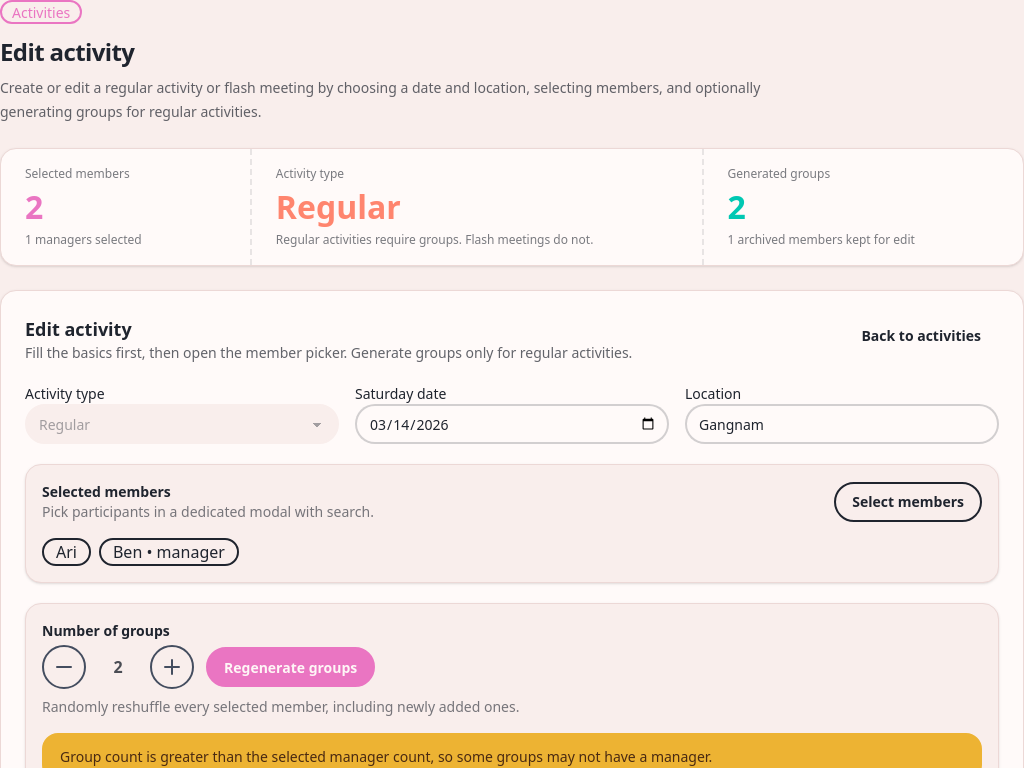
it: activity builder page › shows regenerate copy and an unassigned tray after adding members to existing groups
Check: the button "Regenerate groups" is shown, box [206,647,375,687]
Check: the text "Randomly reshuffle every selected member, including newly added ones." is shown, box [42,697,519,716]
Click the button "Select members".
click(908, 502)  # box [834,482,982,522]
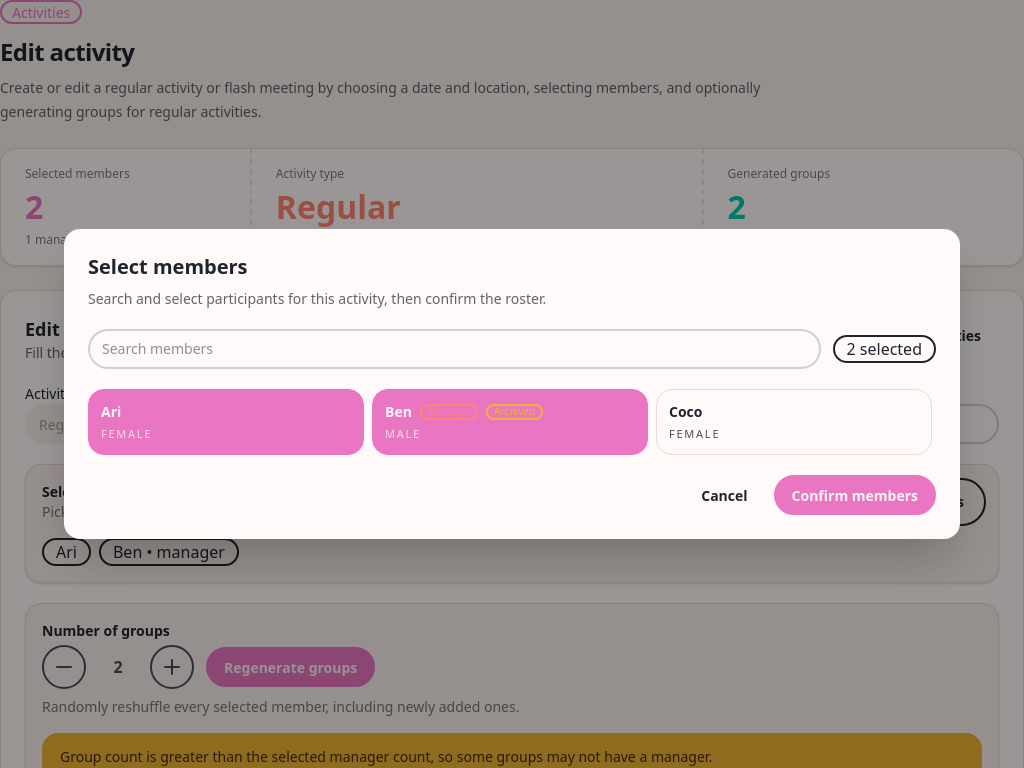
Click the button "Coco Female".
click(686, 411)  # box [656,389,932,455]
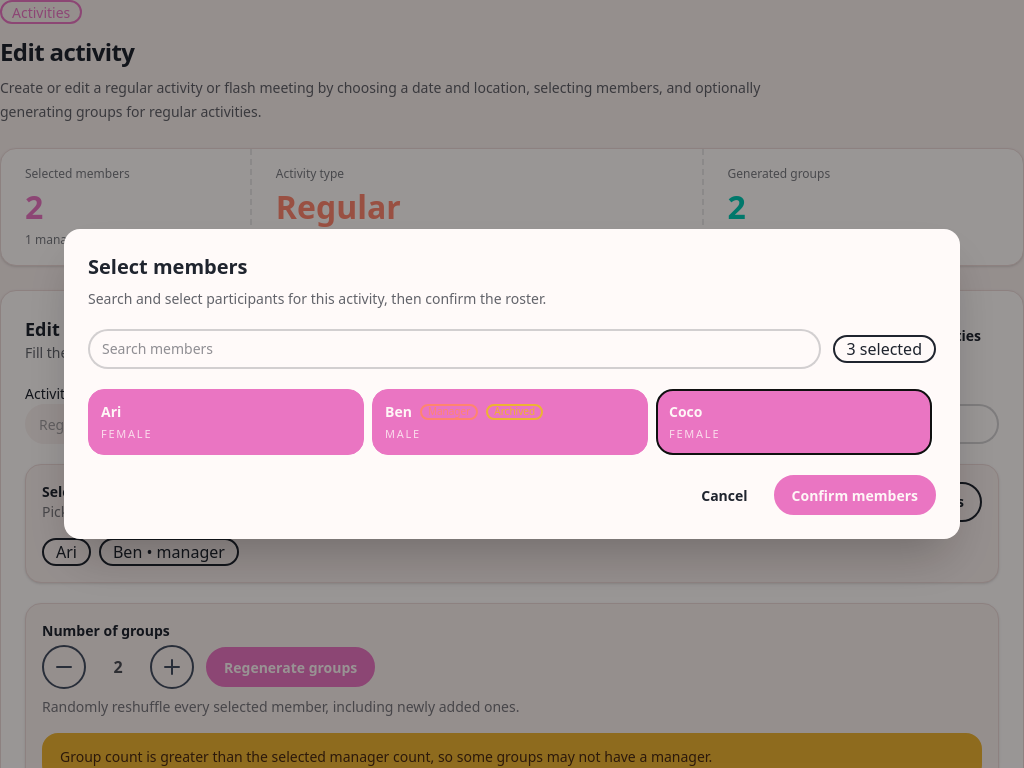
Click the button "Confirm members".
click(855, 495)  # box [774,475,936,515]
(page scrolled)
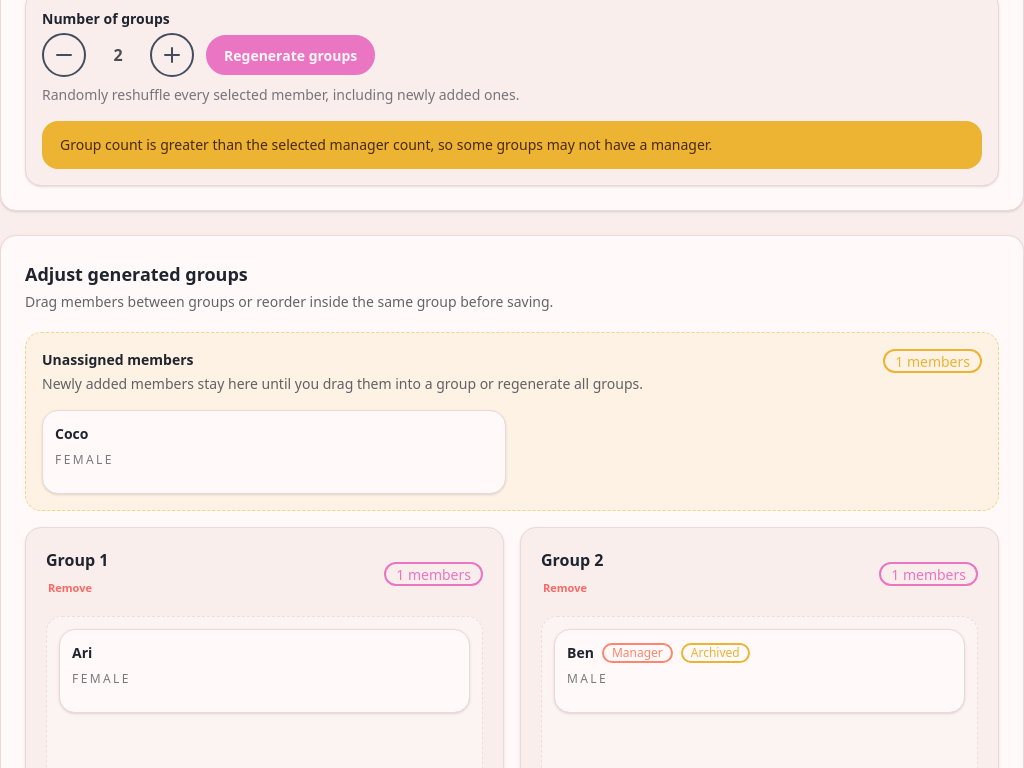
Check: the heading "Unassigned members" is shown, box [42,350,194,369]
Check: the text "Newly added members stay here until you drag them into a group or regenerate all groups." is shown, box [42,374,643,393]
